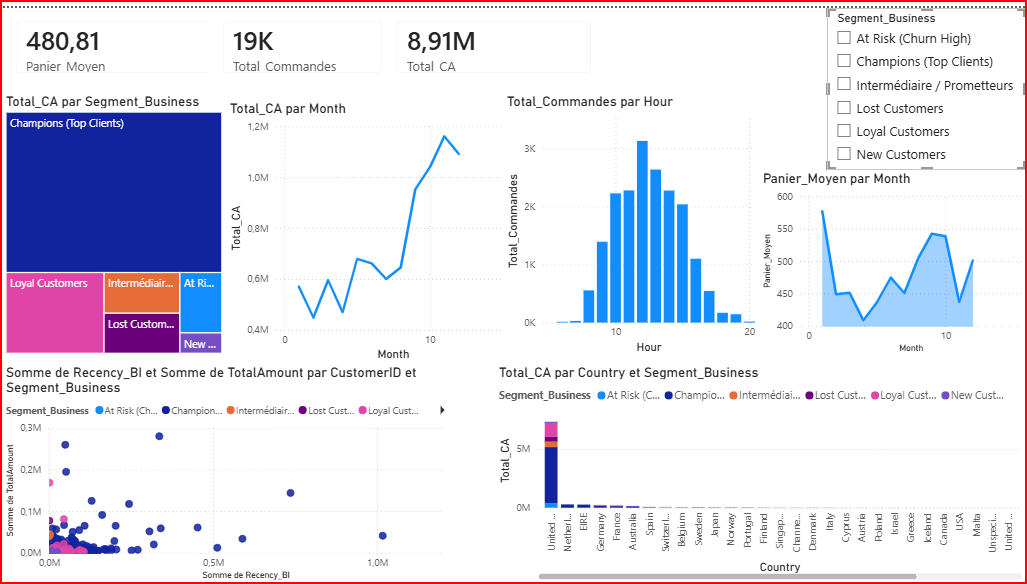

The page's visual inventory and layout, read from the dashboard file:
{"tool":"powerbi","page":{"name":"Page 1","canvas":[1280,720],"ordinal":0},"visuals":[{"type":"cardVisual","fields":{"Data":["ecommerce_segmented_transactions.Panier_Moyen"]},"box":[0,0,279.8,99],"z":0},{"type":"cardVisual","fields":{"Data":["ecommerce_segmented_transactions.Total_Commandes"]},"box":[258.6,0,233.3,99],"z":1000},{"type":"cardVisual","fields":{"Data":["ecommerce_segmented_transactions.Total_CA"]},"box":[476.8,0,277.8,99],"z":2000},{"type":"treemap","fields":{"Group":["ecommerce_segmented_transactions.Segment_Business"],"Values":["ecommerce_segmented_transactions.Total_CA"]},"box":[0,106.1,279.8,330.3],"z":3000},{"type":"lineChart","fields":{"Category":["ecommerce_segmented_transactions.Month"],"Y":["ecommerce_segmented_transactions.Total_CA"]},"box":[279.8,115.2,360.6,330.3],"z":4000},{"type":"columnChart","fields":{"Category":["ecommerce_segmented_transactions.Hour"],"Y":["ecommerce_segmented_transactions.Total_Commandes"]},"box":[626.2,106.2,320,330],"z":5000},{"type":"slicer","fields":{"Values":["ecommerce_segmented_transactions.Segment_Business"]},"box":[1031.2,0,248.8,202.5],"z":6000},{"type":"scatterChart","fields":{"Category":["ecommerce_segmented_transactions.CustomerID"],"Y":["Sum(ecommerce_segmented_transactions.TotalAmount)"],"Series":["ecommerce_segmented_transactions.Segment_Business"],"X":["Sum(ecommerce_segmented_transactions.Recency_BI)"]},"box":[0,445,570,275],"z":7000},{"type":"columnChart","fields":{"Category":["ecommerce_segmented_transactions.Country"],"Y":["ecommerce_segmented_transactions.Total_CA"],"Series":["ecommerce_segmented_transactions.Segment_Business"]},"box":[616.2,445,663.8,275],"z":8000},{"type":"areaChart","fields":{"Category":["ecommerce_segmented_transactions.Month"],"Y":["ecommerce_segmented_transactions.Panier_Moyen"]},"box":[946.2,202.5,333.8,233.8],"z":9000}]}

Visuals, with their boxes in screenshot pixels (x1, y1, x2, y2), scaled from the page's 1280x720 canvas onto the 1027x584 screenshot:
cardVisual - ecommerce_segmented_transactions.Panier_Moyen: [0,0,224,80]
cardVisual - ecommerce_segmented_transactions.Total_Commandes: [207,0,395,80]
cardVisual - ecommerce_segmented_transactions.Total_CA: [383,0,605,80]
treemap - ecommerce_segmented_transactions.Segment_Business x ecommerce_segmented_transactions.Total_CA: [0,86,224,354]
lineChart - ecommerce_segmented_transactions.Month x ecommerce_segmented_transactions.Total_CA: [224,93,514,361]
columnChart - ecommerce_segmented_transactions.Hour x ecommerce_segmented_transactions.Total_Commandes: [502,86,759,354]
slicer - ecommerce_segmented_transactions.Segment_Business: [827,0,1026,164]
scatterChart - ecommerce_segmented_transactions.CustomerID x Sum(ecommerce_segmented_transactions.TotalAmount): [0,361,457,583]
columnChart - ecommerce_segmented_transactions.Country x ecommerce_segmented_transactions.Total_CA: [494,361,1026,583]
areaChart - ecommerce_segmented_transactions.Month x ecommerce_segmented_transactions.Panier_Moyen: [759,164,1026,354]
